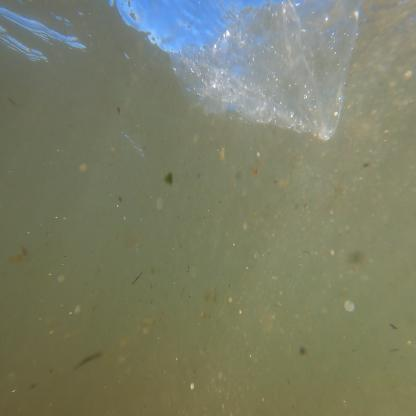Rác: (172, 0, 368, 131)
